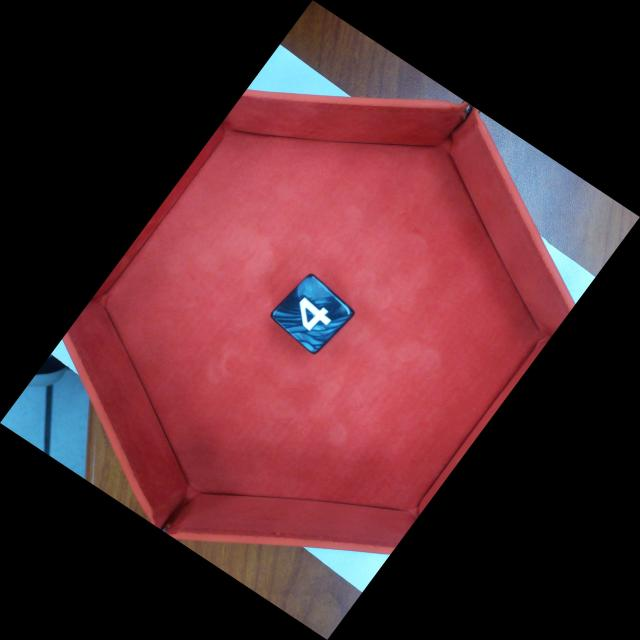dice: (276, 273, 354, 353)
